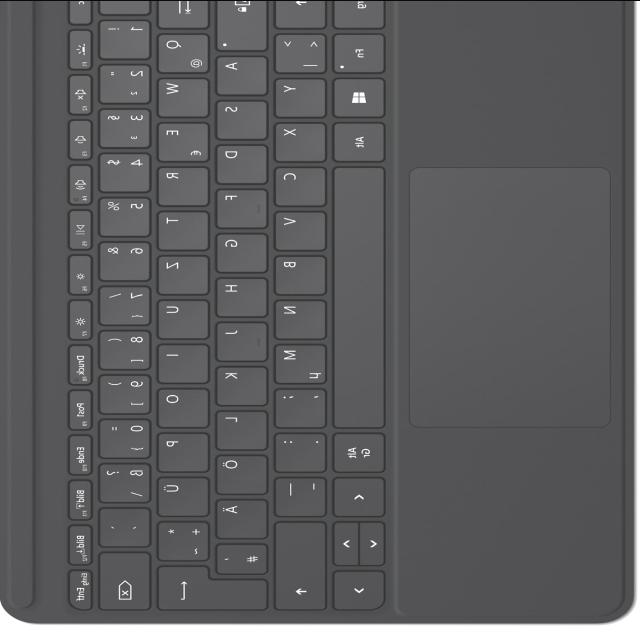0: (95, 416, 151, 457)
1: (94, 17, 148, 57)
2: (95, 60, 149, 102)
3: (94, 104, 148, 146)
4: (94, 150, 148, 190)
5: (94, 193, 148, 234)
6: (94, 238, 148, 278)
7: (96, 283, 150, 323)
8: (95, 327, 149, 367)
9: (95, 370, 150, 411)
a: (212, 53, 266, 93)
accent: (94, 504, 148, 545)
ae: (212, 496, 267, 537)
alt-left: (330, 119, 384, 160)
altgr-right: (330, 429, 384, 471)
b: (270, 252, 325, 293)
c: (270, 164, 325, 204)
caret: (95, 0, 149, 12)
comma: (270, 385, 325, 425)
d: (212, 141, 267, 182)
del: (95, 549, 150, 609)
e: (153, 119, 208, 160)
enter: (153, 564, 267, 609)
f: (212, 186, 266, 226)
g: (212, 230, 266, 270)
h: (212, 274, 266, 315)
hash: (212, 541, 267, 572)
i: (153, 341, 207, 381)
j: (212, 319, 266, 359)
k: (212, 363, 266, 403)
keyboard: (29, 0, 399, 618)
l: (212, 408, 266, 448)
less: (270, 30, 326, 72)
m: (270, 340, 325, 381)
minus: (270, 473, 324, 514)
n: (271, 296, 325, 336)
o: (153, 385, 207, 426)
oe: (212, 451, 266, 492)
p: (153, 429, 208, 470)
plus: (153, 518, 208, 559)
point: (270, 429, 324, 470)
q: (154, 30, 208, 72)
r: (153, 164, 208, 204)
s: (212, 97, 266, 137)
shift-left: (271, 0, 325, 26)
shift-lock: (211, 0, 266, 49)
shift-right: (269, 519, 325, 609)
space: (328, 162, 385, 428)
ss: (95, 459, 149, 500)
strg-left: (328, 0, 383, 26)
t: (153, 208, 207, 248)
tab: (152, 0, 208, 26)
u: (153, 296, 208, 336)
ue: (153, 473, 209, 514)
v: (270, 208, 325, 249)
w: (153, 75, 208, 115)
x: (270, 119, 325, 160)
y: (271, 75, 325, 115)
z: (154, 253, 208, 293)
